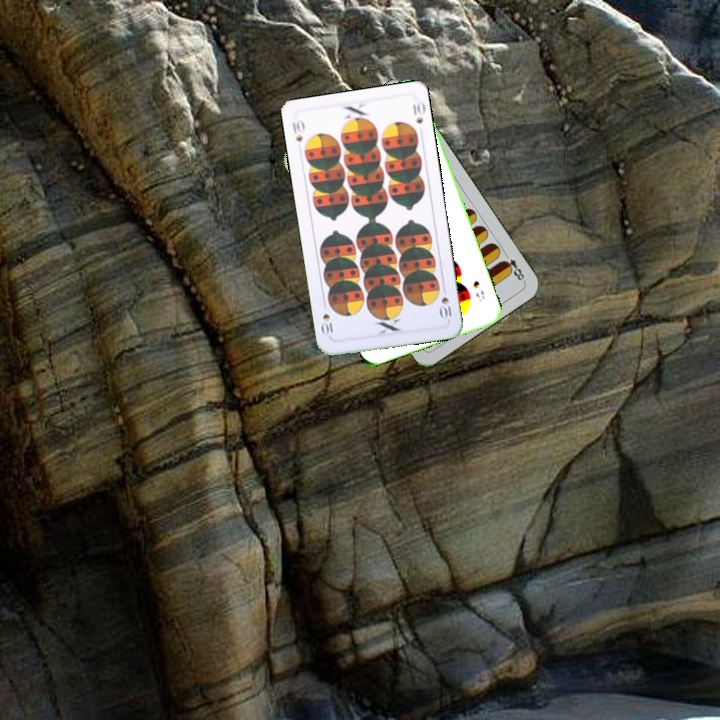E8: (498, 248, 527, 284)
S10: (436, 282, 455, 322), (288, 116, 307, 144)
S8: (469, 277, 487, 304)
